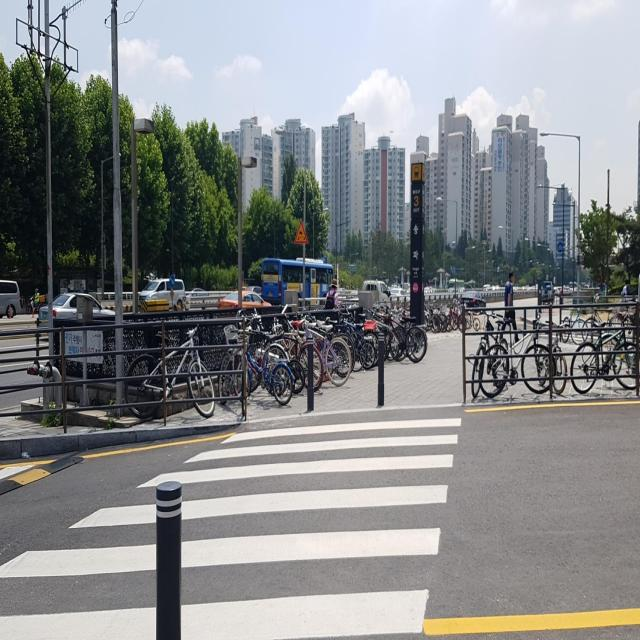횡단보도: (0, 410, 465, 640)
